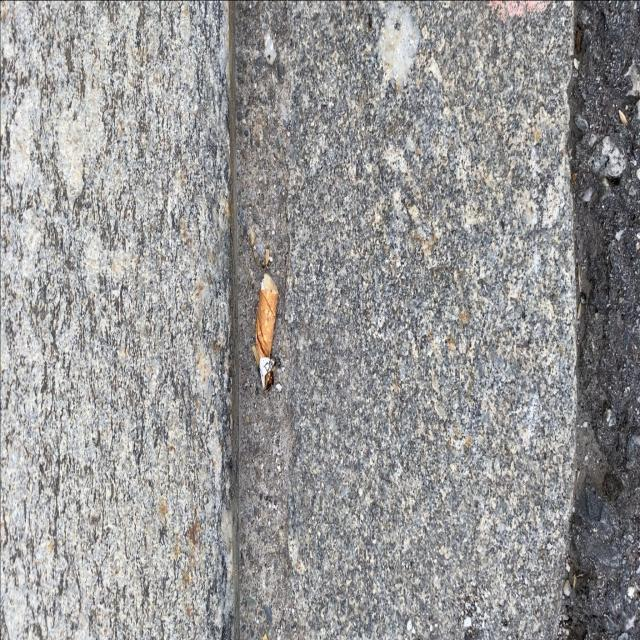other waste: (254, 269, 278, 392)
